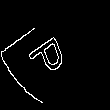P_NE: (32, 27, 78, 83)
